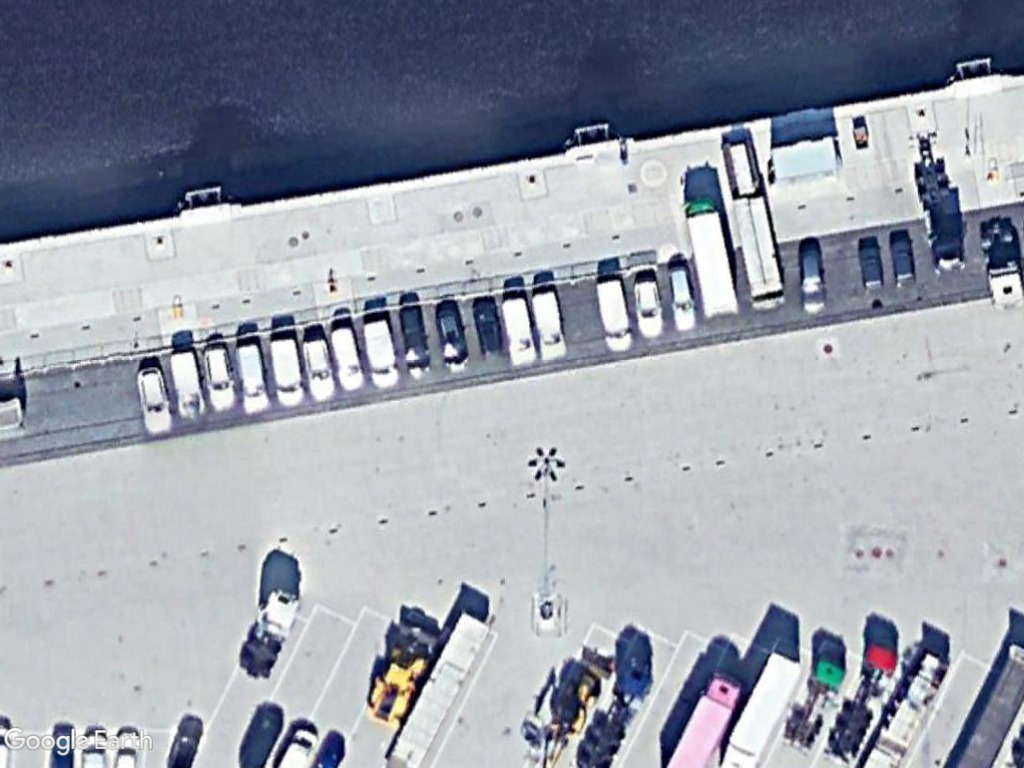car: (130, 359, 182, 441), (430, 300, 476, 375), (196, 339, 238, 415), (661, 257, 699, 338), (631, 273, 668, 343)
truck: (679, 193, 747, 323), (659, 663, 742, 768)
van: (588, 273, 641, 356), (358, 315, 410, 395), (494, 293, 542, 373), (526, 282, 570, 369), (265, 330, 309, 412), (164, 346, 210, 424), (325, 320, 368, 398), (230, 339, 272, 416), (299, 333, 342, 408)
